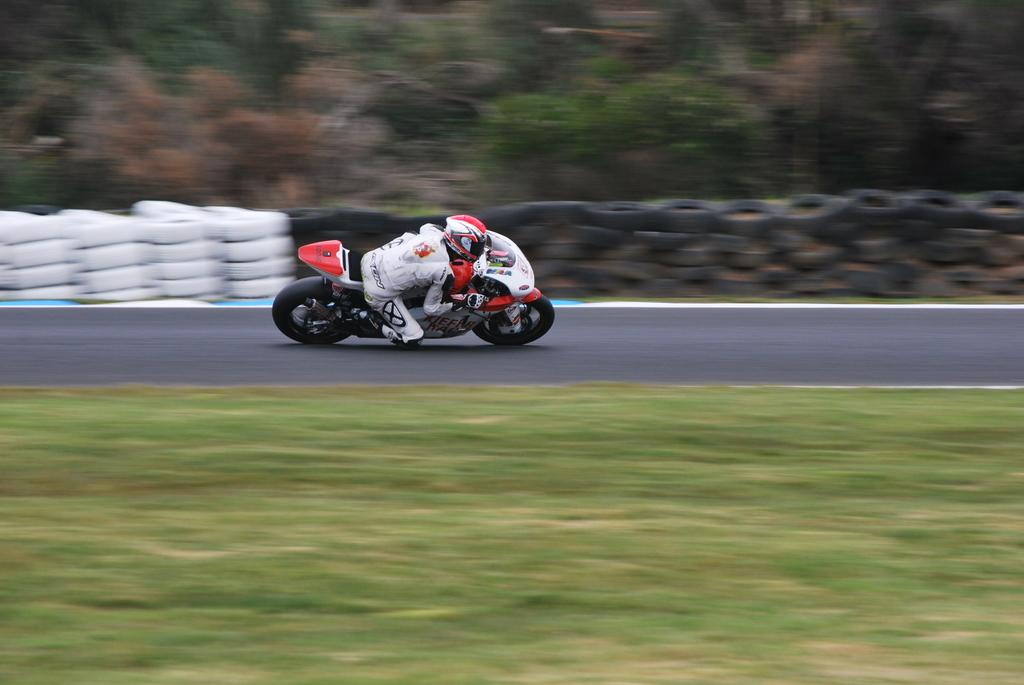helmet: (443, 214, 487, 263)
